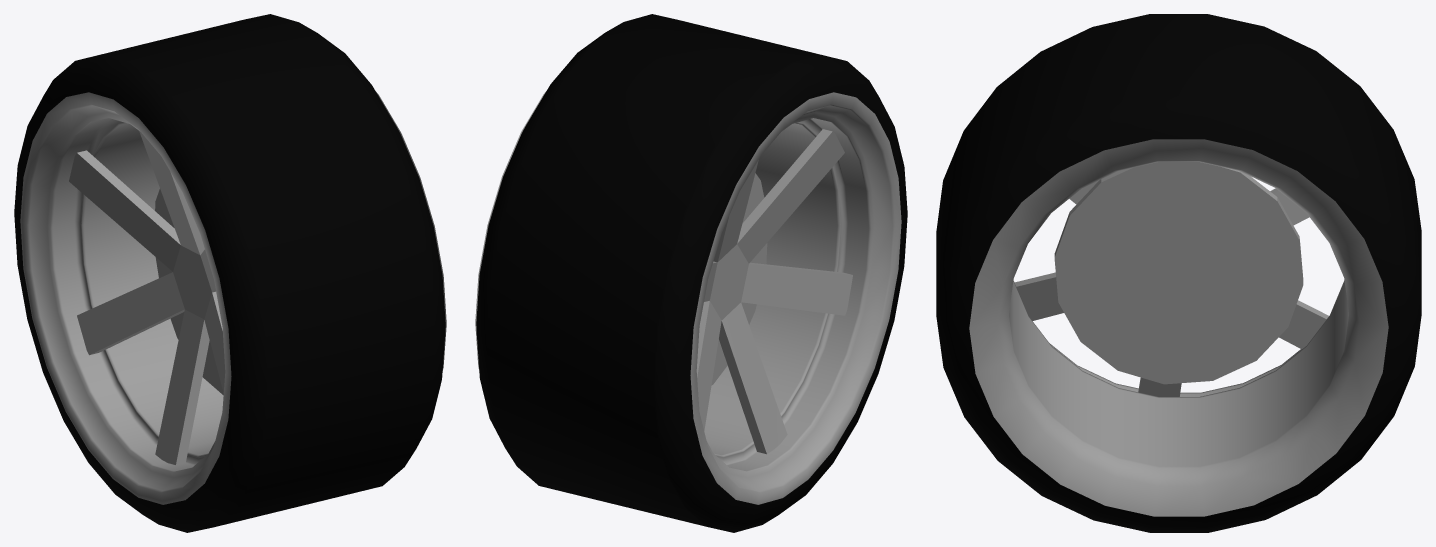
The model's file is Car_1_Rear_Right_Wheel.FBX.
The picture shows the model from 3 angles, left to right: view 1: azimuth 30°, elevation 25°; view 2: azimuth 150°, elevation 25°; view 3: azimuth 270°, elevation 25°; orthographic projection.
Parts seen in each view (by area): view 1: Car_1_Rear_Right_Wheel; view 2: Car_1_Rear_Right_Wheel; view 3: Car_1_Rear_Right_Wheel.
Part boxes in pixels (<box>): Car_1_Rear_Right_Wheel: <box>14,14,446,532</box>; Car_1_Rear_Right_Wheel: <box>475,14,907,532</box>; Car_1_Rear_Right_Wheel: <box>936,14,1421,532</box>.
Size of the model in its own units: 37.91 by 74.05 by 74.57.
